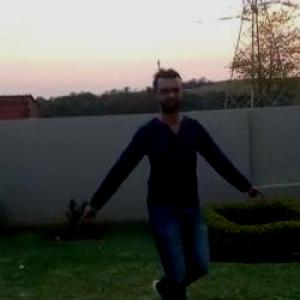land: (103, 84, 236, 280)
